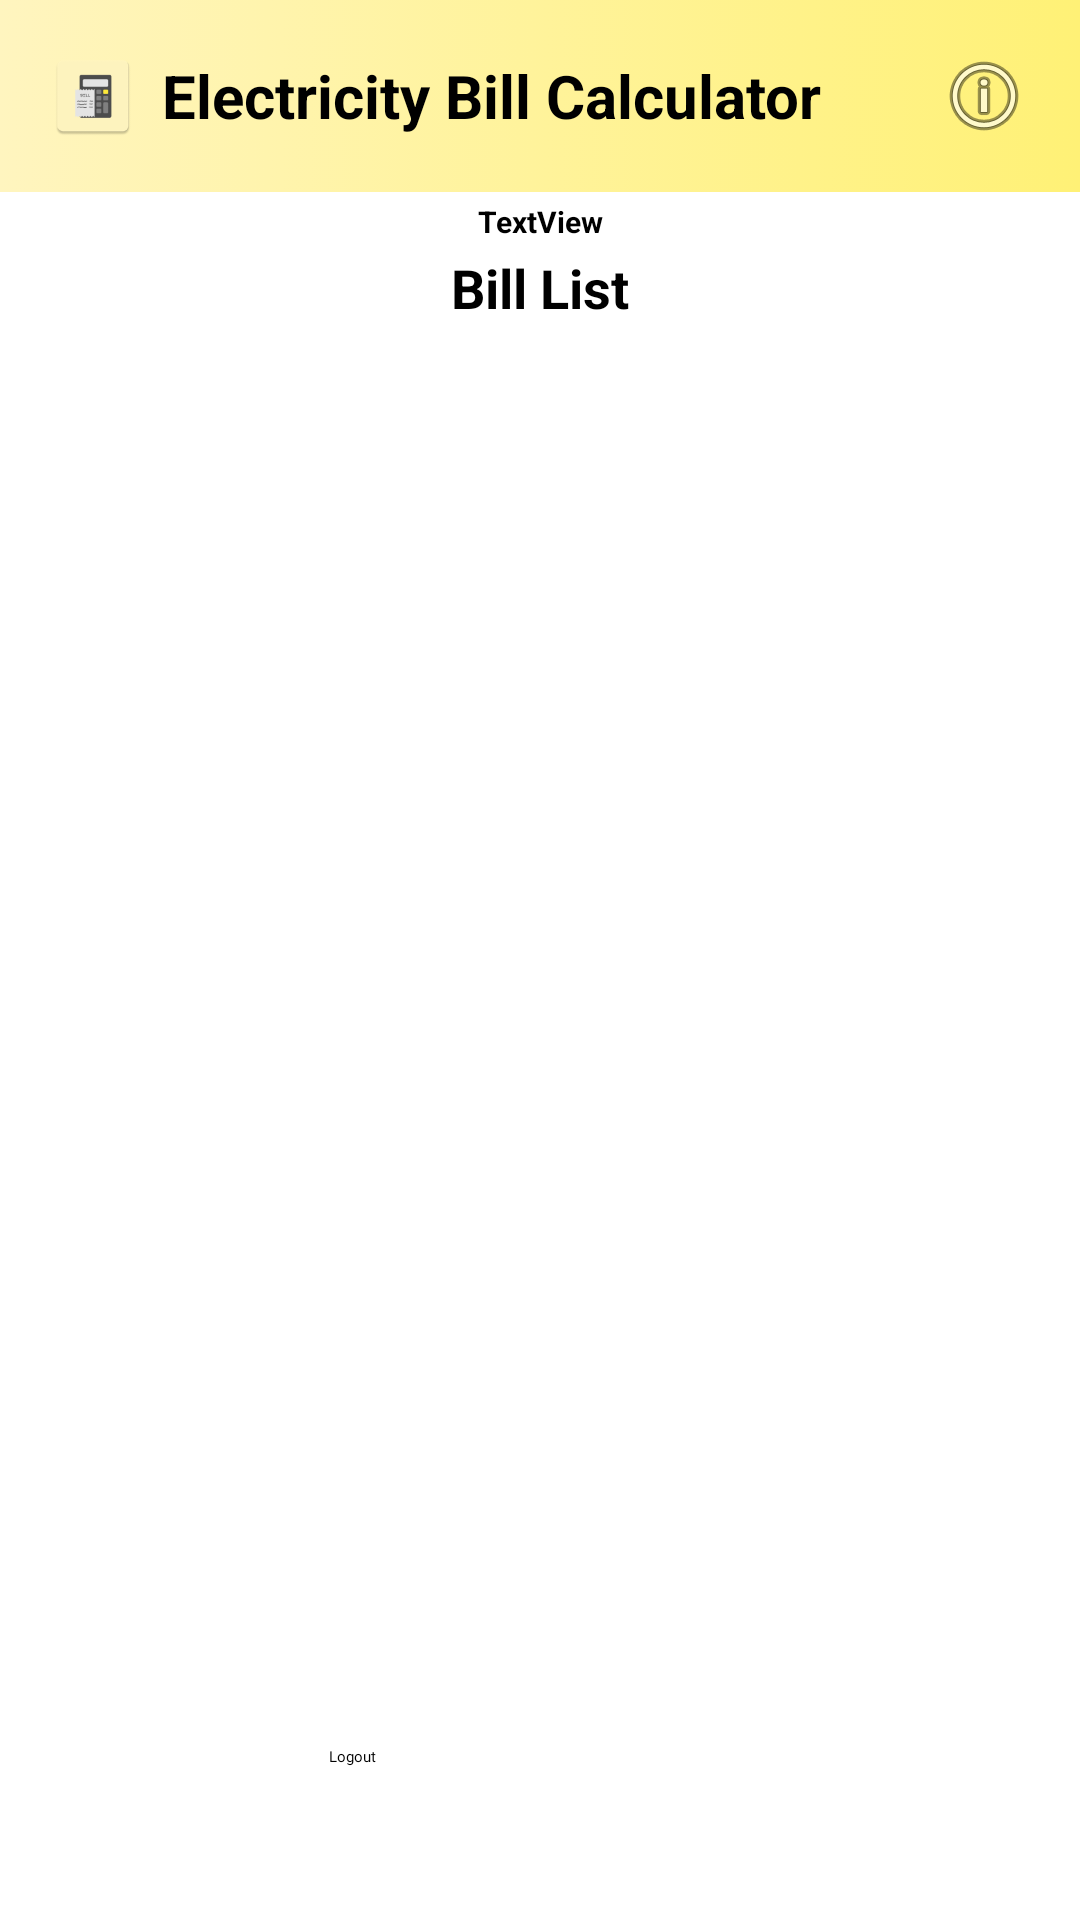

Point at icon controls on the screen. Image size 1080w x 1920h, points as (x,y).
Info: (984,96)
